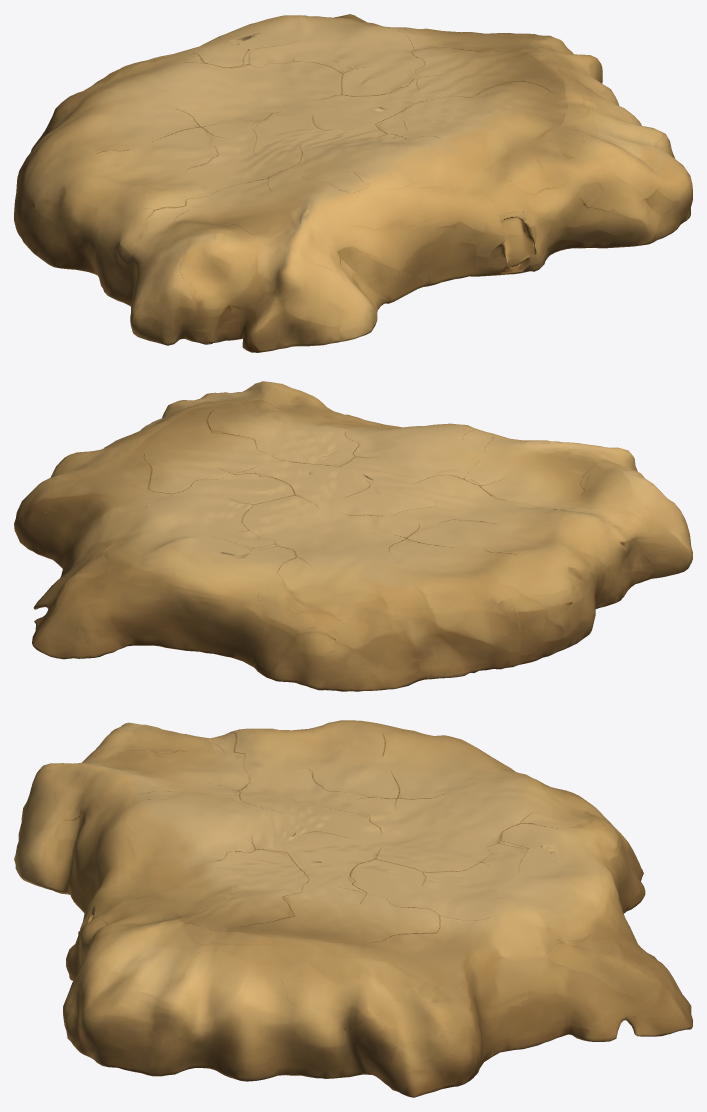
Rendered from island_4.glb.
The picture shows the model from 3 angles, top to bottom: view 1: azimuth 30°, elevation 25°; view 2: azimuth 150°, elevation 25°; view 3: azimuth 270°, elevation 25°; orthographic projection. The views are drawn at different scales.
Size of the model in its own units: 1.91 by 0.3405 by 1.73.
Materials: 1 (1 with a texture image).
